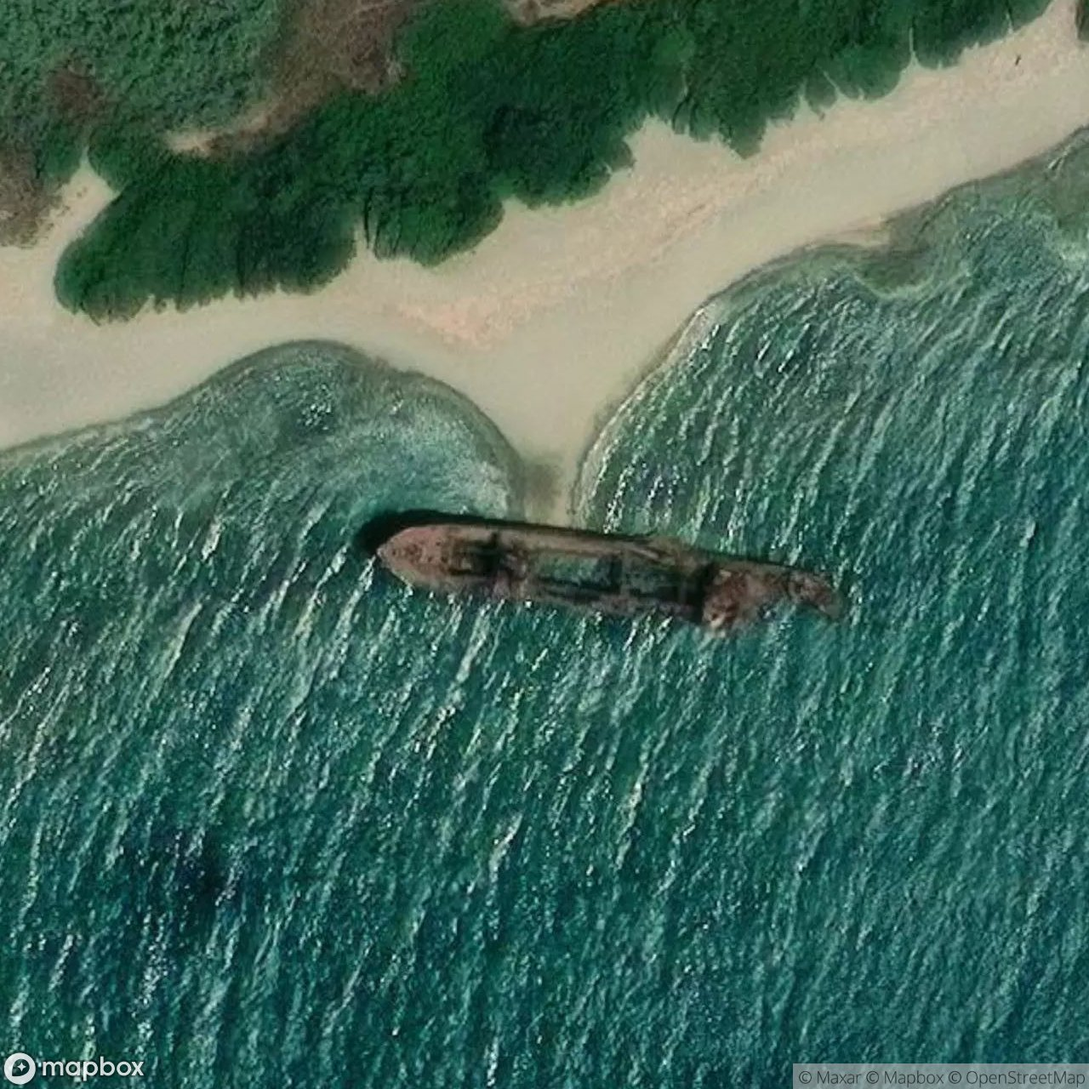Wreck: (304, 479, 873, 656)
